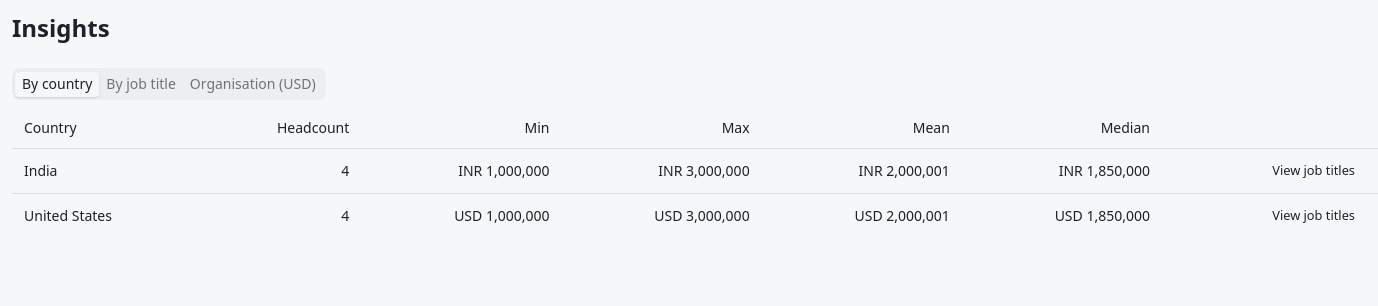
it: InsightsPage › job-title insights › shows the job titles of the country picked from its row
The image size is (1378, 306).
Click the button with aria-label "View job titles for India" at (1314, 170), box [1261,156,1366,184]
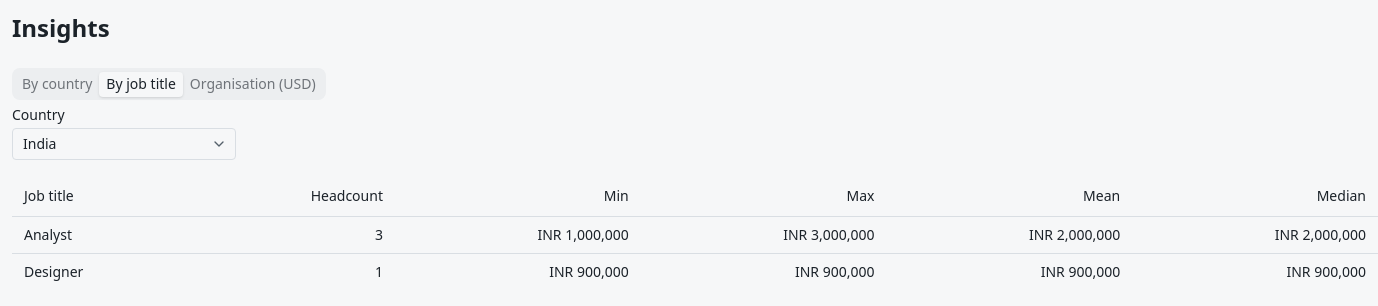
Expected: the text "3" is shown, [190,216,395,253]
Now the row "Designer 1 INR 900,000 INR 900,000 INR 900,000 INR 900,000" is shown, box [12,253,1377,290]
